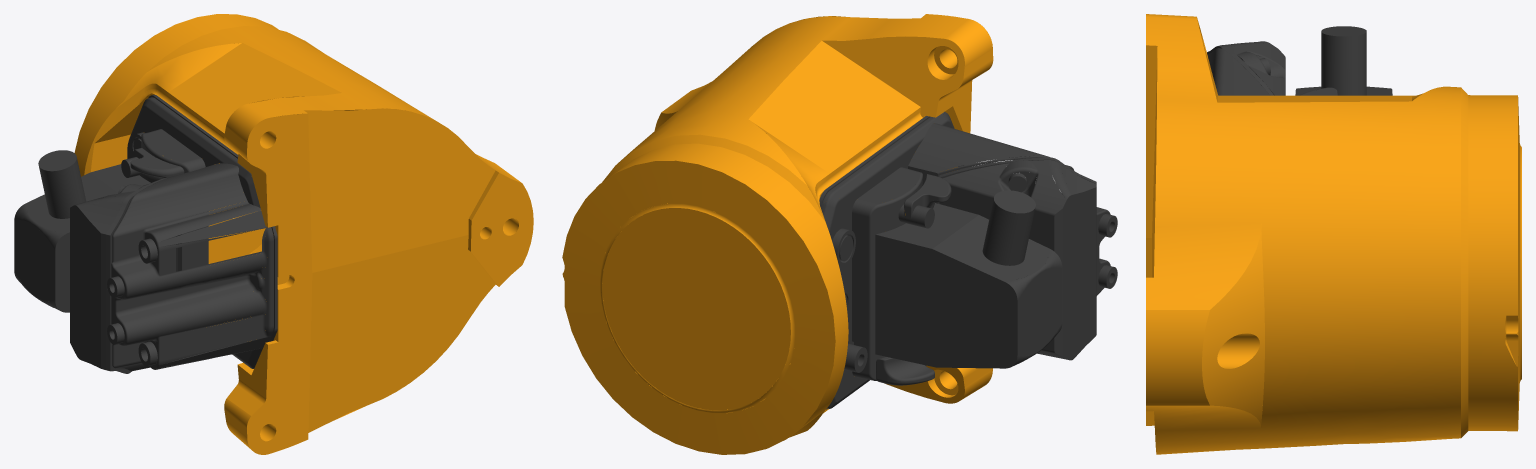
3 renders of one model, left to right at view 1: azimuth 30°, elevation 25°; view 2: azimuth 150°, elevation 25°; view 3: azimuth 270°, elevation 25°, orthographic. The views are drawn at different scales.
Visible parts, largest first — view 1: L0.IGS (×48); view 2: L0.IGS (×40); view 3: L0.IGS (×25).
Boxes of the visible parts, left/top/right/bottom form: L0.IGS (×48): left=14, top=14, right=533, bottom=454; L0.IGS (×40): left=562, top=14, right=1096, bottom=454; L0.IGS (×25): left=1146, top=17, right=1521, bottom=454.
Size of the model in its own units: 0.2815 by 0.2184 by 0.1895.
